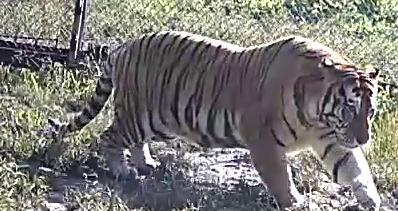tiger: (81, 31, 380, 210)
